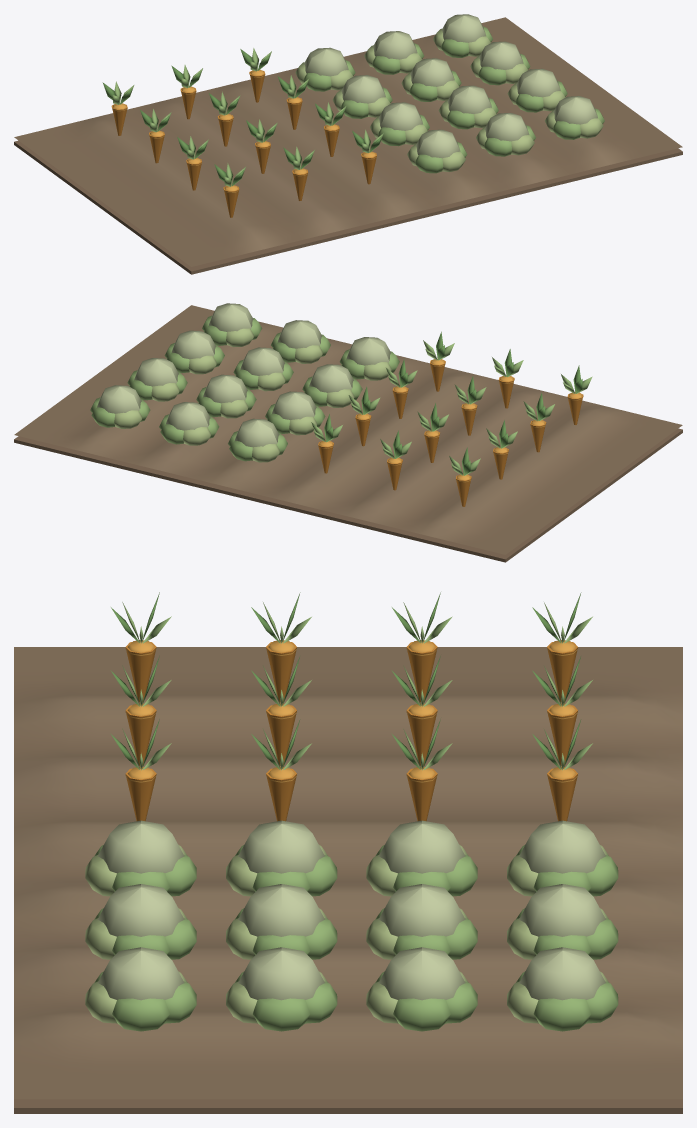
Rendered from field_stage3_low.glb.
The picture shows the model from 3 angles, top to bottom: view 1: azimuth 30°, elevation 25°; view 2: azimuth 150°, elevation 25°; view 3: azimuth 270°, elevation 25°; orthographic projection. The views are drawn at different scales.
Size of the model in its own units: 8 by 1.05 by 5.
